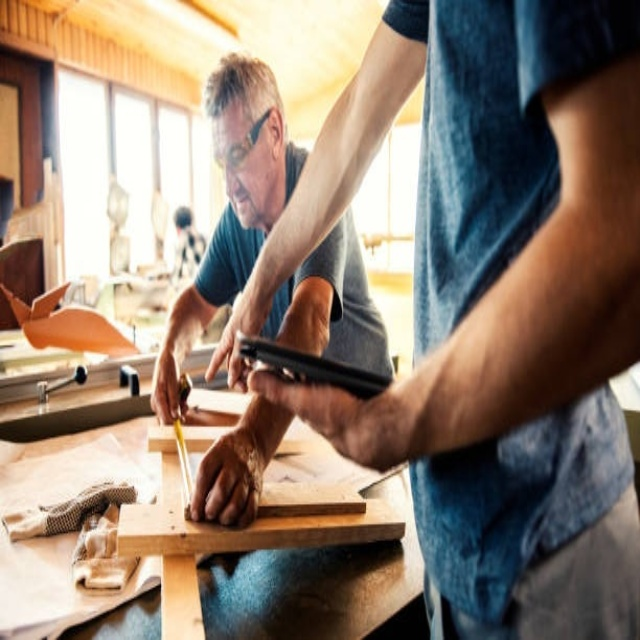Gafas: (215, 107, 272, 172)
Sin_guantes: (245, 366, 403, 476), (187, 419, 269, 528), (207, 295, 269, 396), (149, 321, 198, 428)
Sin_mascara: (229, 186, 260, 222)
